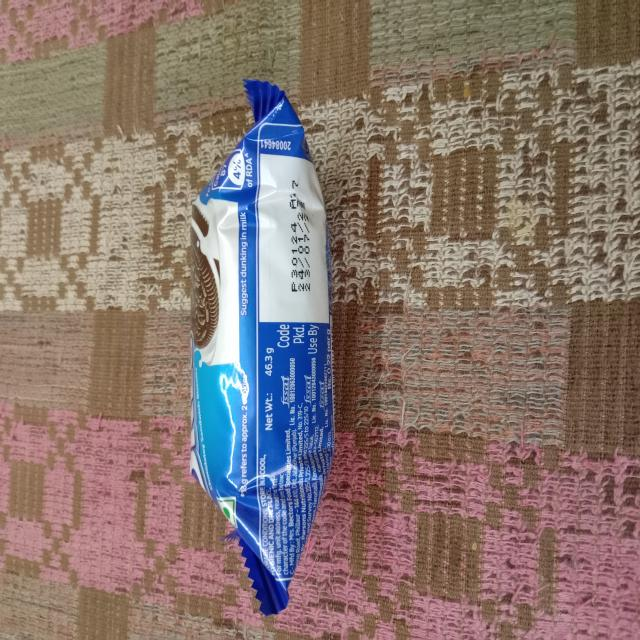oreo biscuit: (184, 77, 336, 618)
